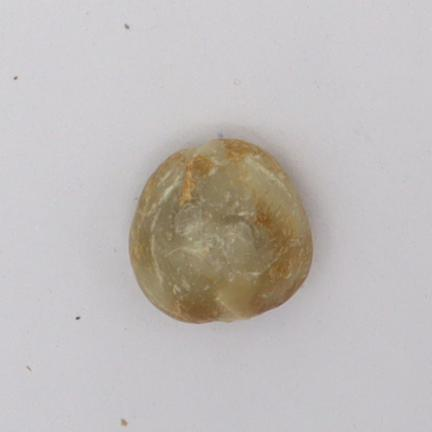immature: (130, 140, 311, 321)
